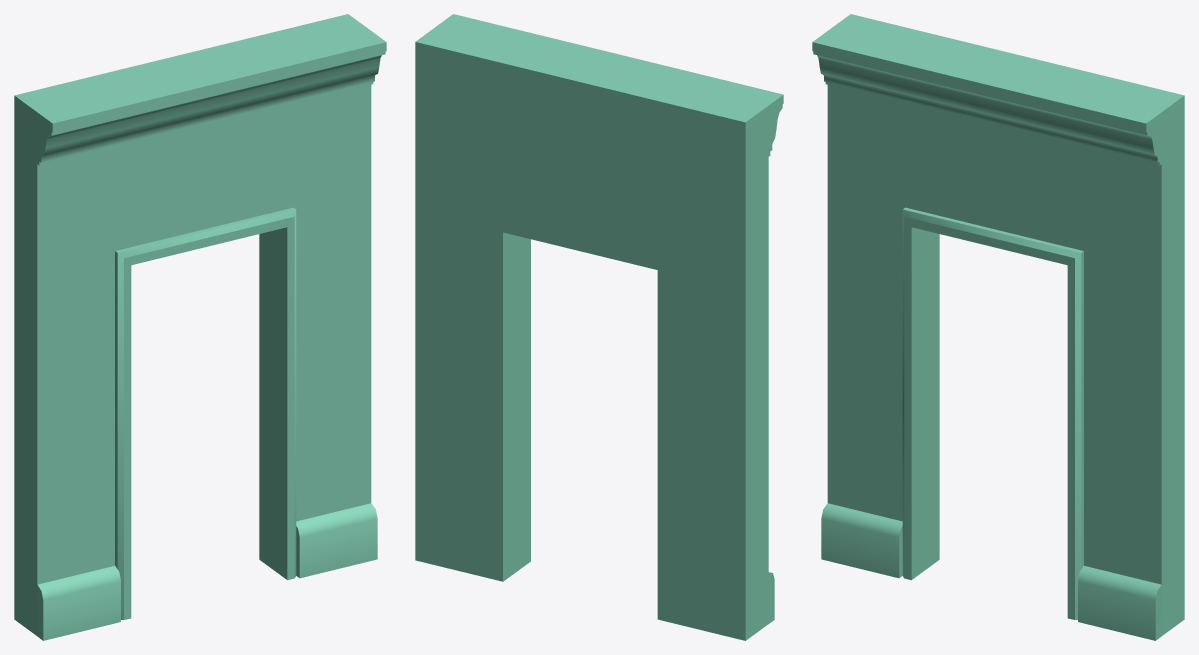
The model's file is SM_WallDoor_3m_x_2m_01.fbx.
The picture shows the model from 3 angles, left to right: view 1: azimuth 30°, elevation 25°; view 2: azimuth 150°, elevation 25°; view 3: azimuth 330°, elevation 25°; orthographic projection.
Visible parts, largest first — view 1: Cube.006; view 2: Cube.006; view 3: Cube.006.
Boxes of the visible parts, x1,y1,x2,y2 form: Cube.006: (14,14,386,640); Cube.006: (415,14,783,640); Cube.006: (812,14,1184,640).
Bounding box in the file's own units: 2 × 3 × 0.3992.
